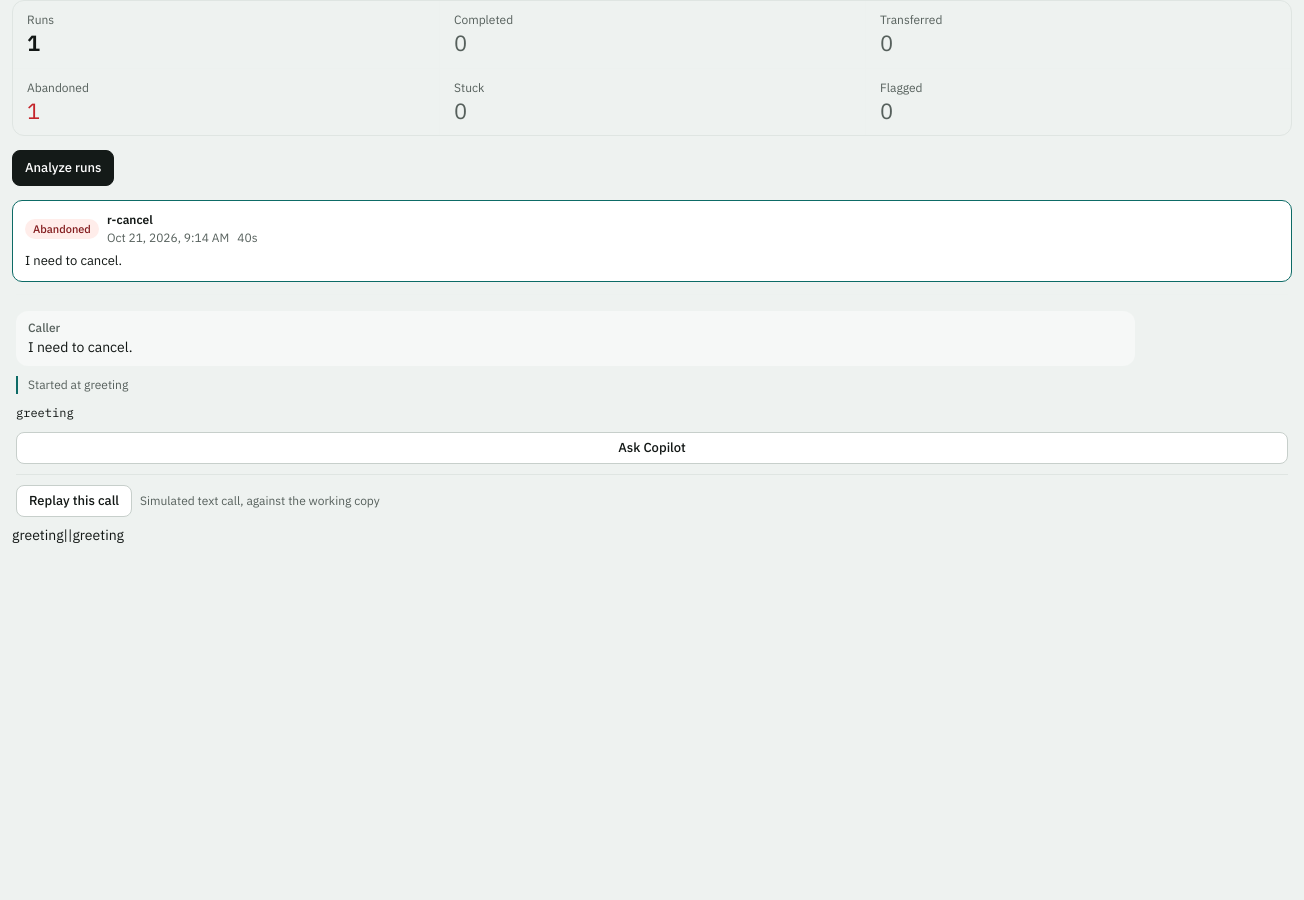
Replay this call › replays the working copy without a proposal and shows outcome, goal, reason and transcript
This screenshot has width=1304, height=900.
Expected: the element "Replay this call" shows "Simulated text call", [140,493,380,508]
Click the button "Replay this call" at (74, 501), box [16,485,132,517]
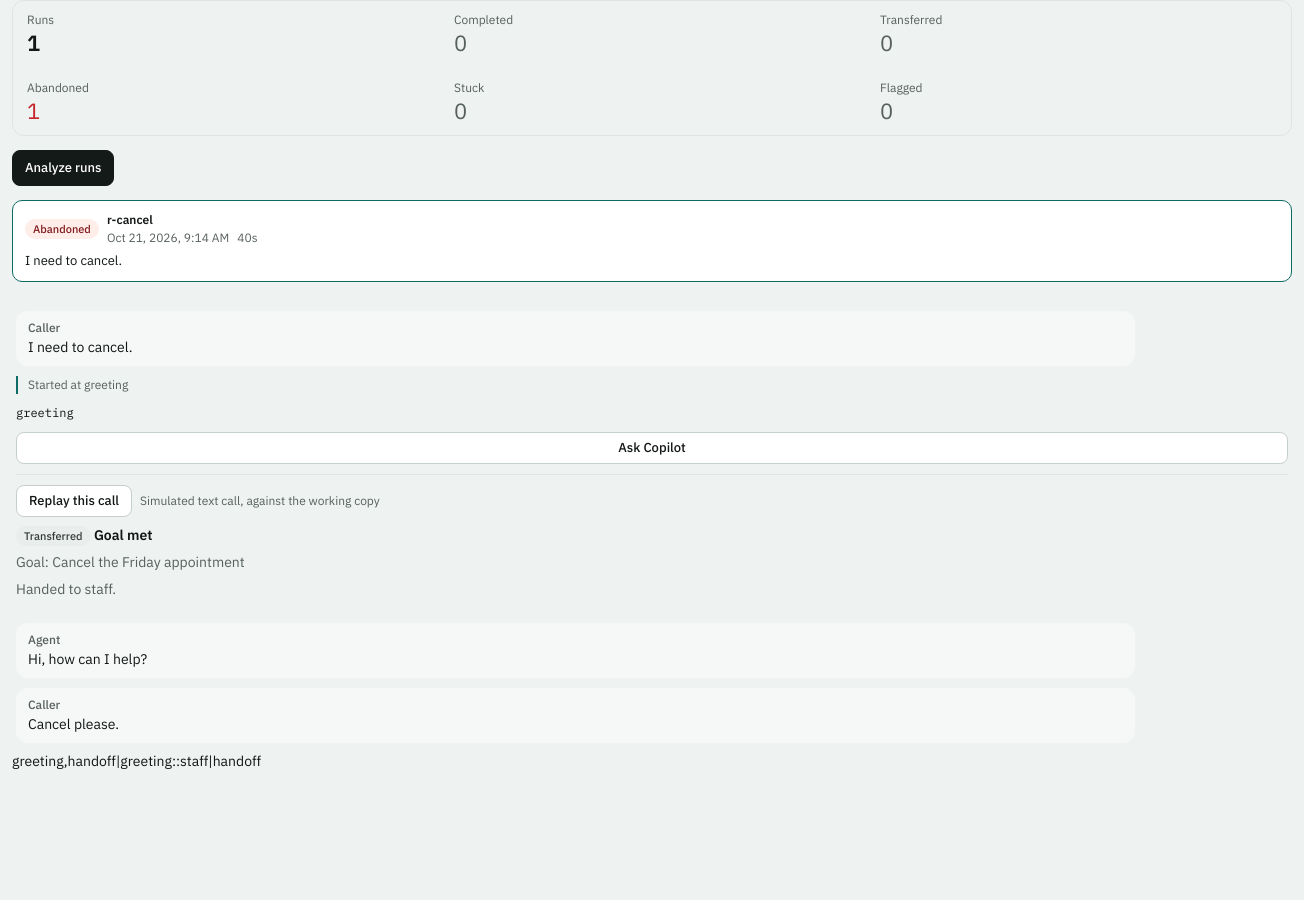
Result: the text "Goal met" is shown at [94,526,152,544]
Result: the element "Replay this call" shows "transferred" at [24,529,83,543]
Result: the element "Replay this call" shows "Goal: Cancel the Friday appointment" at [16,474,1288,743]
